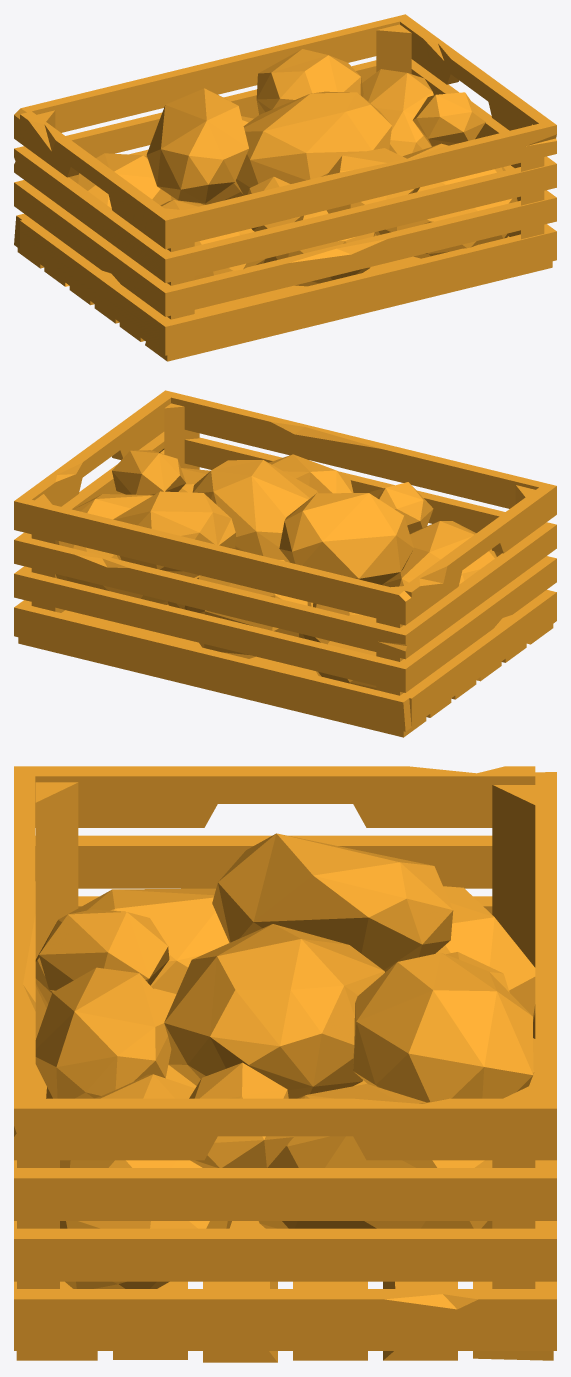
The model's file is SM_Crate_Wood_Medium_Potatoes_A.fbx.
3 views of the same model, one above another, from view 1: azimuth 30°, elevation 25°; view 2: azimuth 150°, elevation 25°; view 3: azimuth 270°, elevation 25° (orthographic). The views are drawn at different scales.
Parts seen in each view (by area): view 1: crate-wood-medium-potatoes-a; view 2: crate-wood-medium-potatoes-a; view 3: crate-wood-medium-potatoes-a.
Boxes of the visible parts, left/top/right/bottom form: crate-wood-medium-potatoes-a: left=14, top=14, right=556, bottom=361; crate-wood-medium-potatoes-a: left=14, top=390, right=556, bottom=737; crate-wood-medium-potatoes-a: left=14, top=766, right=556, bottom=1362.
Bounding box in the file's own units: 0.6067 × 0.2379 × 0.4063.
